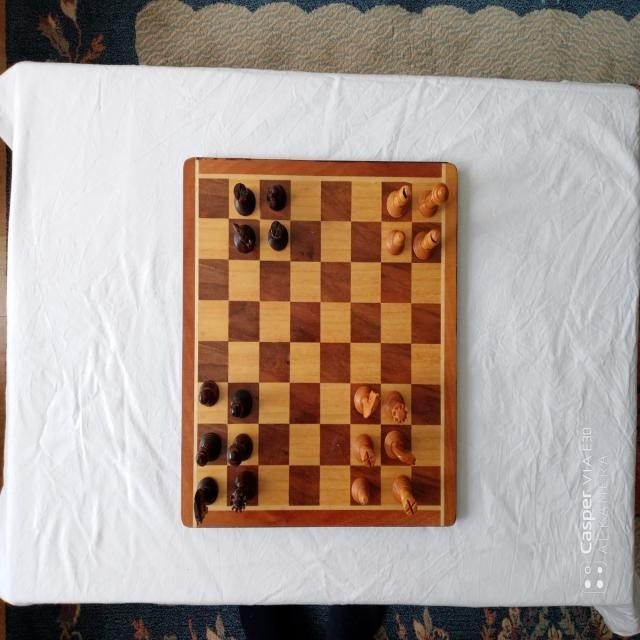black-bishop: (194, 431, 221, 467), (230, 388, 254, 419)
black-king: (226, 432, 253, 467)
black-knight: (193, 476, 218, 525), (232, 221, 256, 254)
black-pawn: (266, 183, 288, 211), (198, 379, 220, 407)
black-queen: (230, 470, 258, 513)
black-rook: (233, 181, 256, 216), (267, 220, 290, 251)
white-bishop: (413, 228, 441, 260), (386, 184, 412, 218)
white-king: (417, 182, 449, 218)
white-knight: (384, 430, 418, 466), (354, 384, 381, 419)
white-pawn: (352, 477, 372, 505), (386, 229, 406, 255)
white-queen: (382, 391, 409, 425)
white-rook: (391, 474, 419, 516), (352, 432, 376, 467)
